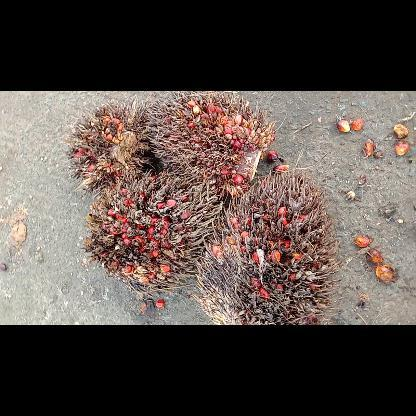Terlalu masak: (190, 168, 346, 324), (80, 167, 224, 302), (141, 91, 281, 201), (62, 96, 164, 200)
